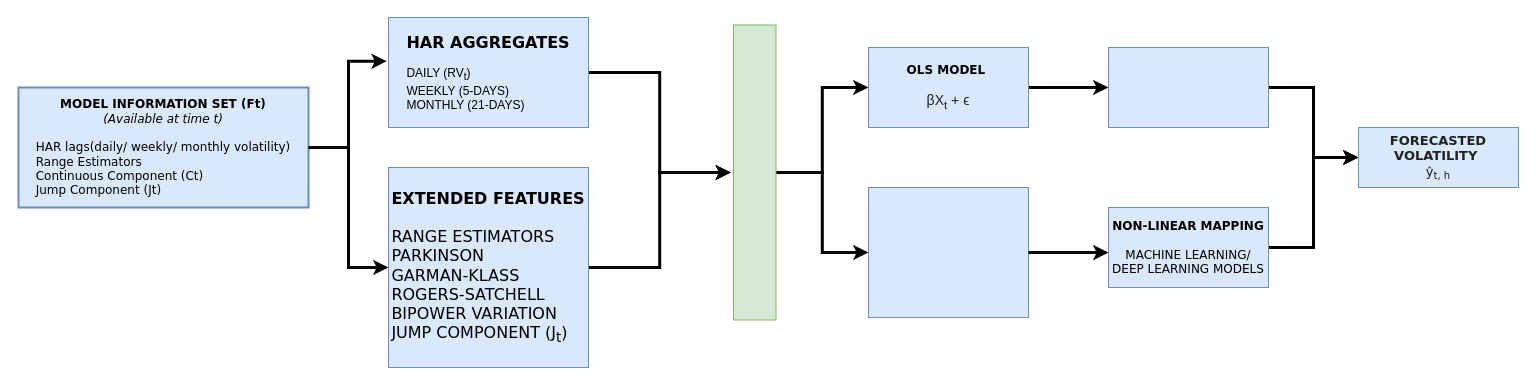
Some shapes in this 1536 by 385 pixel diagram are drawn without their labels. The centre of each missing label's shape, as x and y in pixels:
HAR-X FEATURE REPRESENTATION: (754,172)
LEARNING MODEL E-Net XGBoost LSTM MLP Encoder Transformer Decoder Transformer: (948,252)
LINEAR MAPPING HAR/ HAR-X MODELS: (1188,87)
